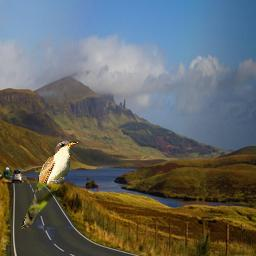Cuckoo: (19, 139, 79, 231)
